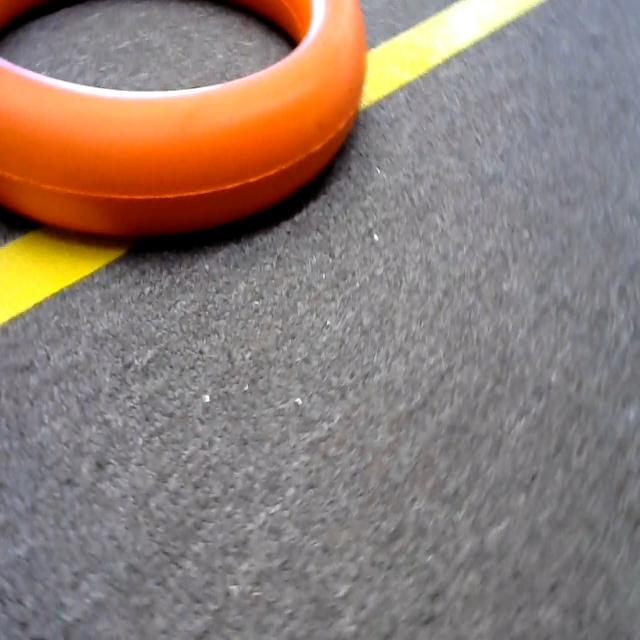note: (0, 0, 376, 239)
